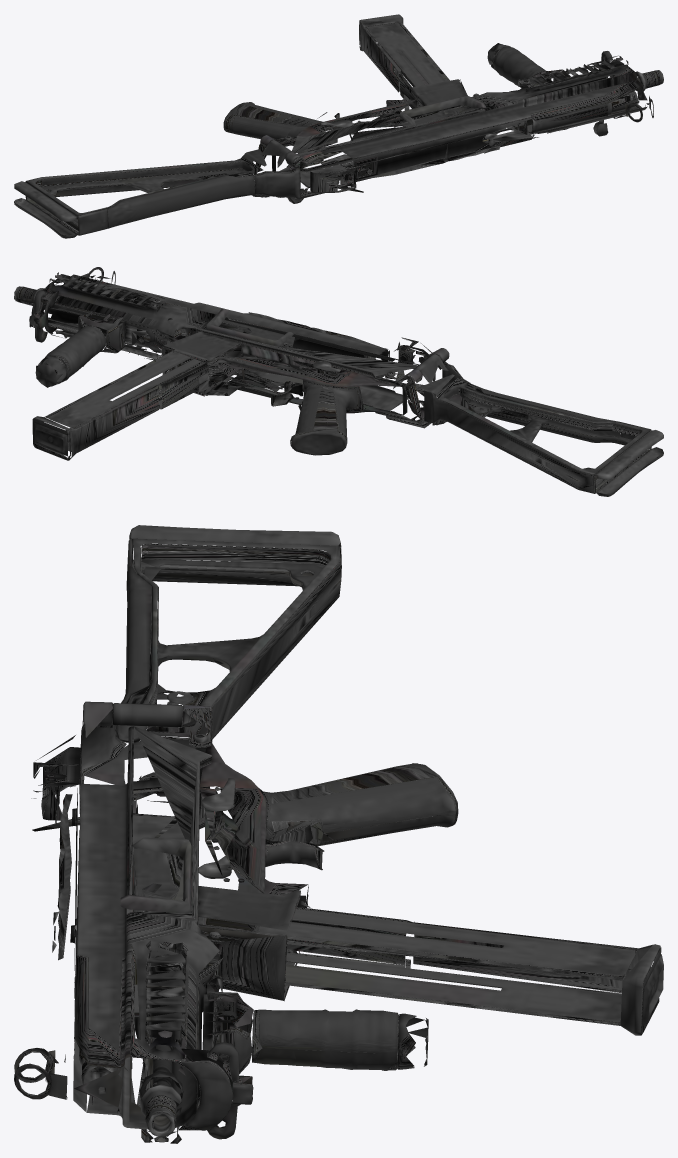
File: w_ump45.glb
3 views of the same model, one above another, from view 1: azimuth 30°, elevation 25°; view 2: azimuth 150°, elevation 25°; view 3: azimuth 270°, elevation 25° (orthographic). The views are drawn at different scales.
Parts seen in each view (by area): view 1: w_ump45; view 2: w_ump45; view 3: w_ump45.
Boxes of the visible parts, x1,y1,x2,y2 form: w_ump45: (14,14,663,238); w_ump45: (14,267,663,496); w_ump45: (14,525,663,1143).
Bounding box in the file's own units: 0.7842 × 0.072 × 0.3713.
Materials: 1 (1 with a texture image).
